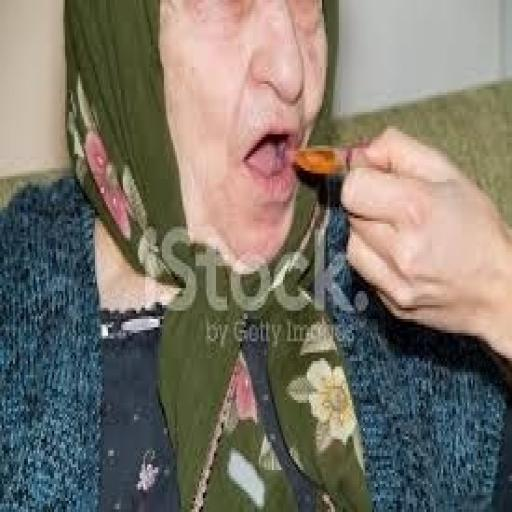drinking: (283, 143, 370, 176)
